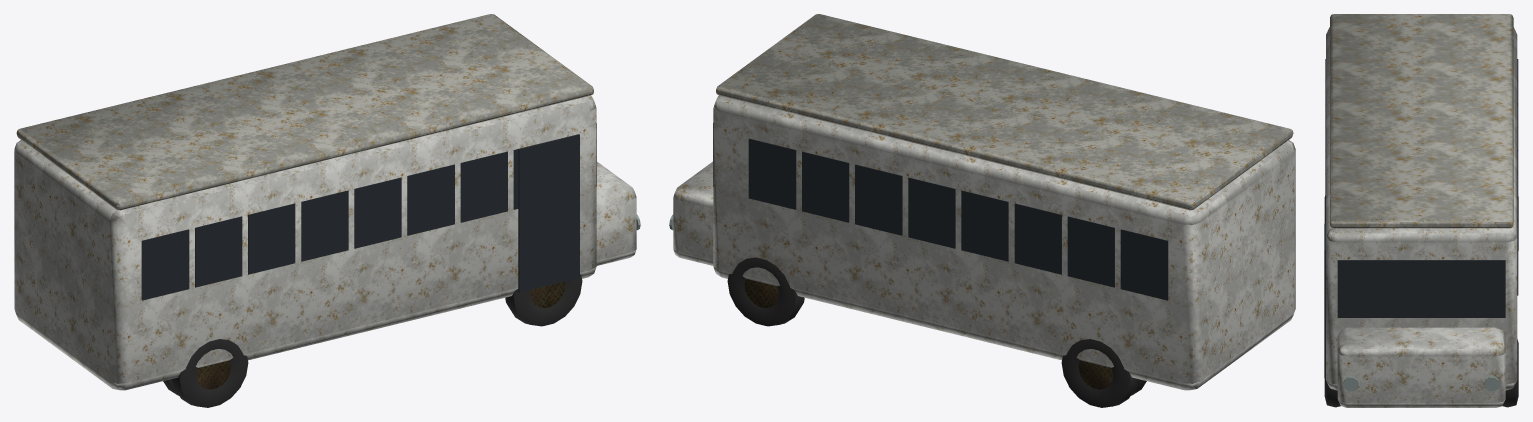
File: veh_bus.gltf
3 renders of one model, left to right at view 1: azimuth 30°, elevation 25°; view 2: azimuth 150°, elevation 25°; view 3: azimuth 270°, elevation 25°, orthographic. The views are drawn at different scales.
Parts seen in each view (by area): view 1: box, box.001, box.020, box.002, box.003, box.005, box.006, box.007, box.008, box.009, box.004, torus.002 (+3 smaller); view 2: box, box.001, box.002, box.011, box.018, box.013, box.014, box.015, box.016, box.017, box.012, torus.001 (+3 smaller); view 3: box.001, box.002, box, box.019, torus.001, box.020, torus, cyl, cyl.001.
Boxes of the visible parts, x1,y1,x2,y2 form: box: (14,95,596,390); box.001: (16,14,593,210); box.020: (518,134,579,292); box.002: (596,161,636,265); box.003: (141,229,189,300); box.005: (248,203,295,274); box.006: (301,190,348,261); box.007: (354,177,401,248); box.008: (407,164,454,235); box.009: (460,151,507,222); box.004: (195,216,242,287); torus.002: (171,339,248,407); box: (713,95,1295,390); box.001: (716,14,1293,210); box.002: (673,161,713,265); box.011: (1120,229,1168,300); box.018: (748,138,796,209); box.013: (1014,203,1061,274); box.014: (961,190,1008,261); box.015: (908,177,955,248); box.016: (855,164,902,235); box.017: (802,151,849,222); box.012: (1067,216,1114,287); torus.001: (727,257,804,326); box.001: (1330,14,1513,228); box.002: (1337,327,1505,407); box: (1326,27,1517,390); box.019: (1337,260,1505,317); torus.001: (1502,339,1518,407); box.020: (1324,223,1325,378); torus: (1324,378,1340,407); cyl: (1343,376,1358,391); cyl.001: (1484,376,1500,391).
Size of the model in its own units: 7.04 by 2.86 by 2.48.
6 materials, 3 textured.
